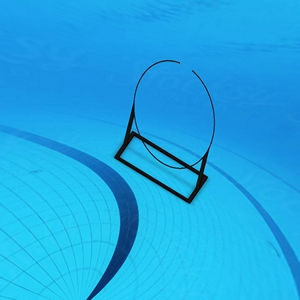circle: (112, 54, 219, 205)
